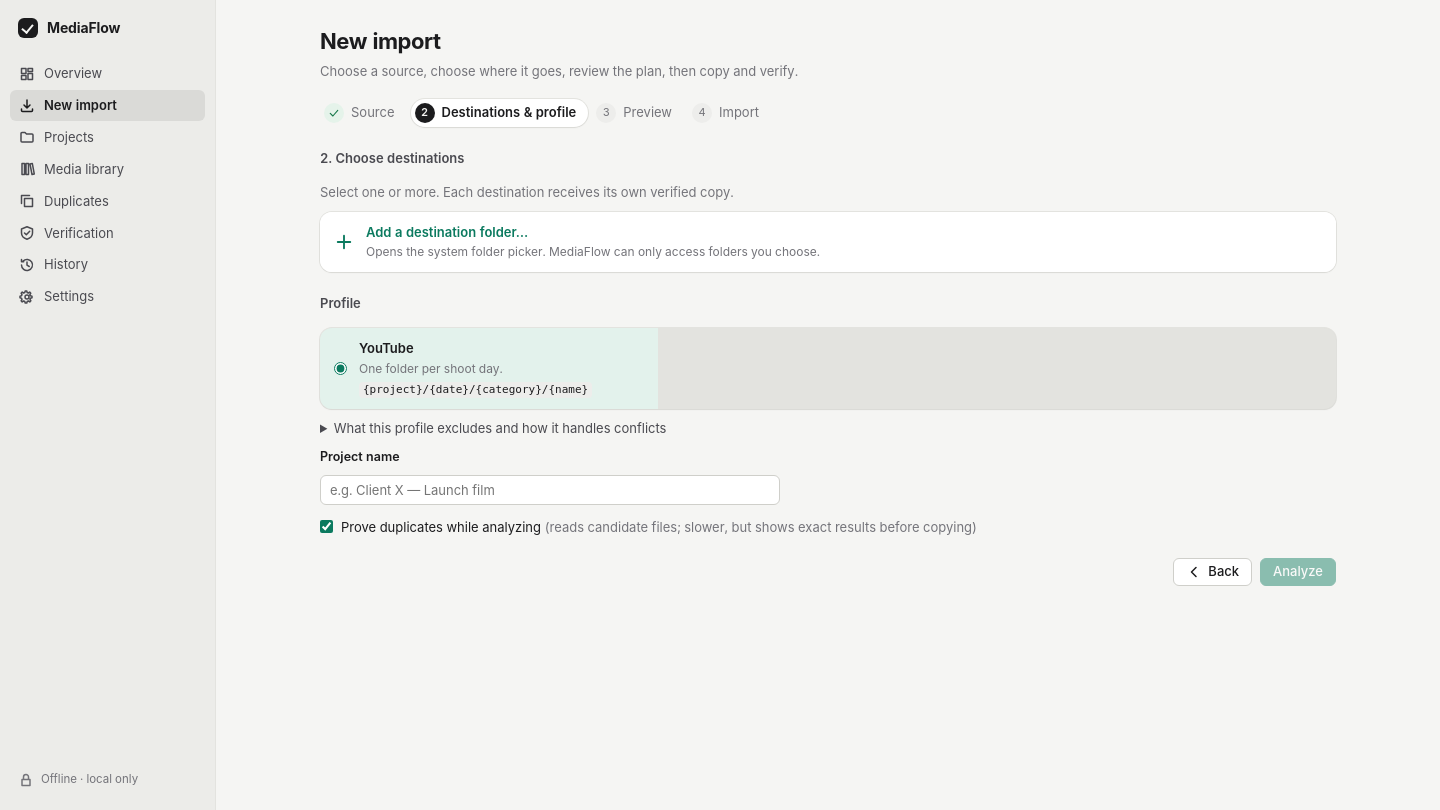
Test case: new import flow › goes from source to a verified run and never reports problems as success
This screenshot has width=1440, height=810.
Earlier steps of the test are not shown.
Later steps or results of the test are not shown.
Expected: the button "Analyze" is disabled, [1260,558,1336,586]
Click the button "Add a destination folder" at (447, 232), box [320,212,1336,272]
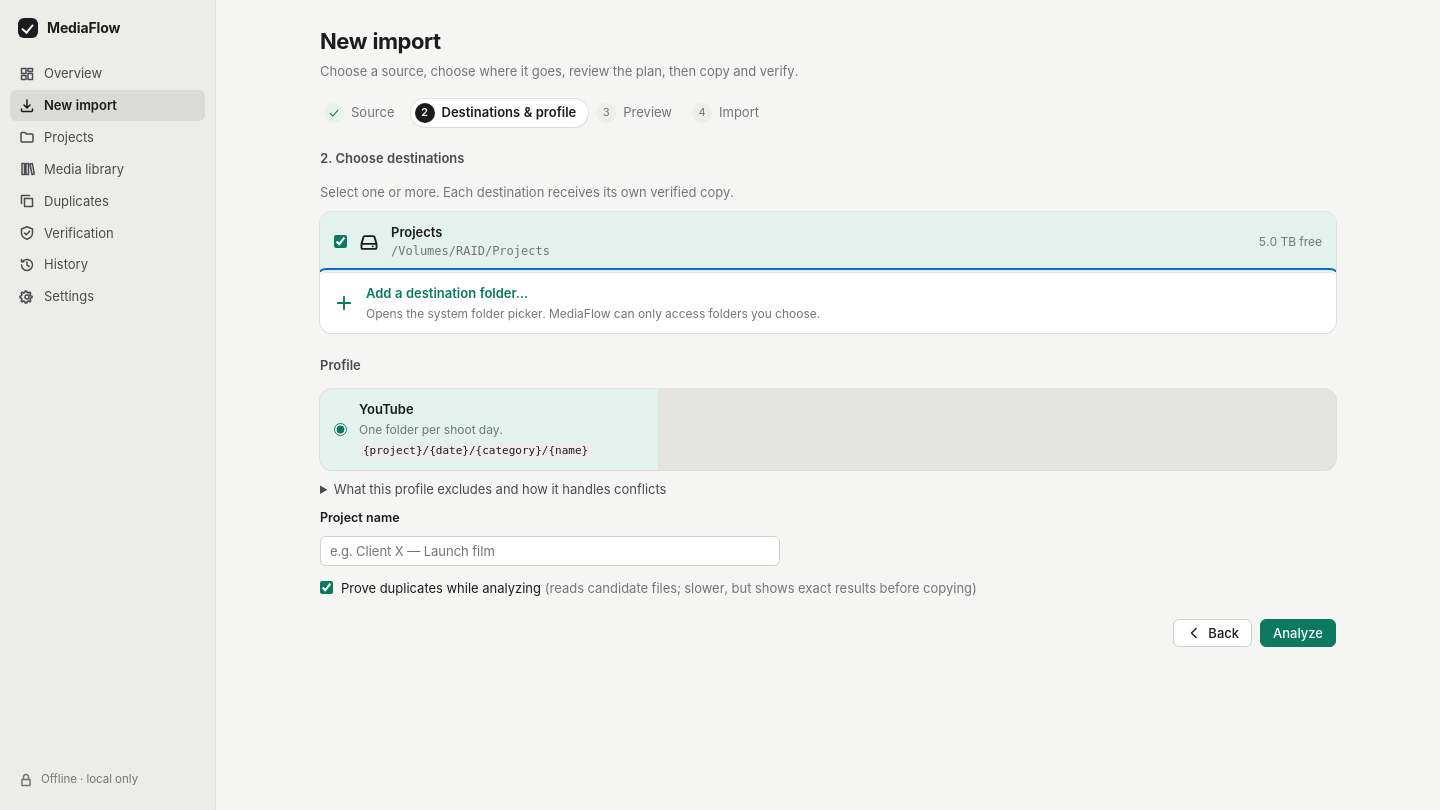
Result: the button "Analyze" is enabled at [1260,619,1336,647]
Type "Launch" into the field labelled "Project name" at (550, 551), box [320,536,780,566]
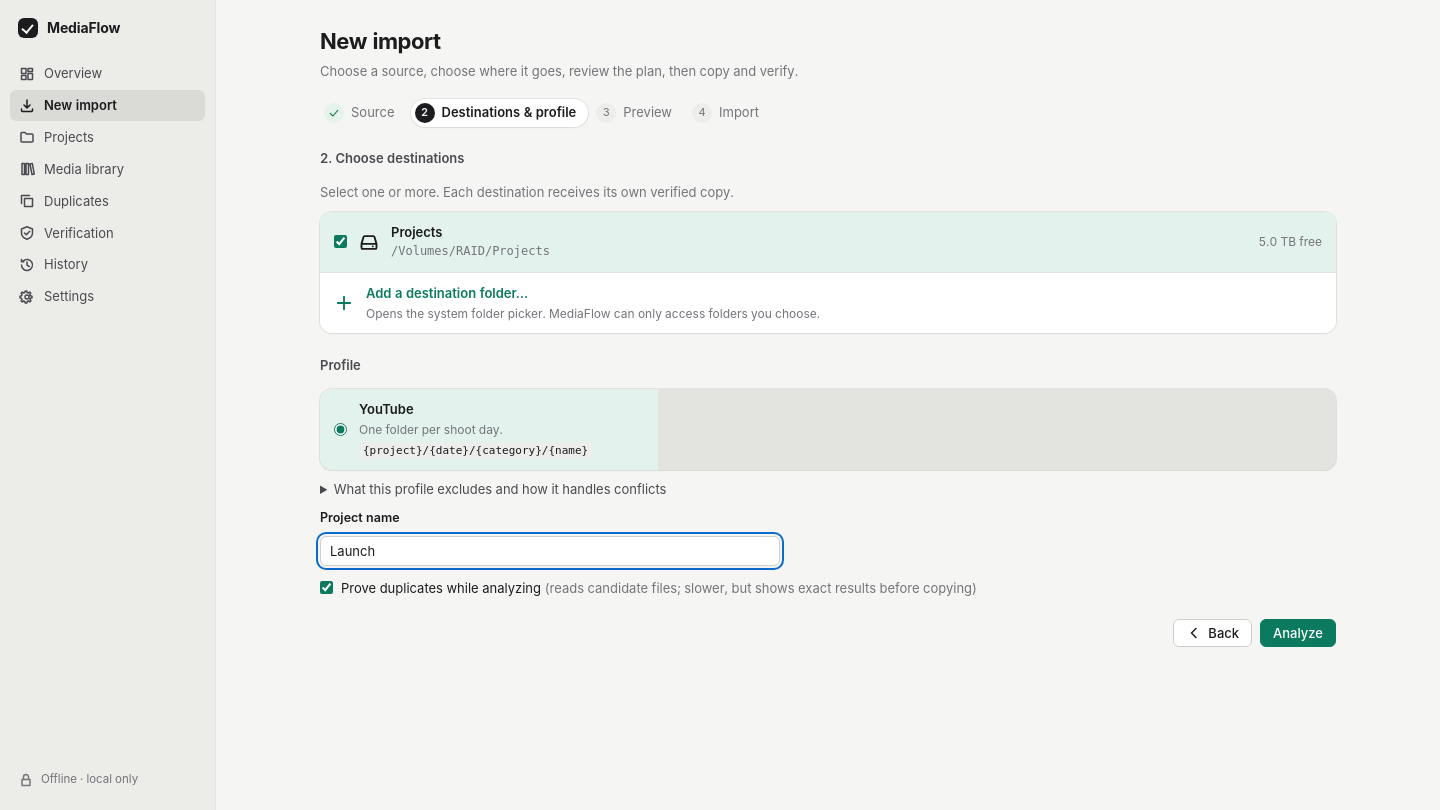
Click the button "Analyze" at (1298, 633), box [1260,619,1336,647]
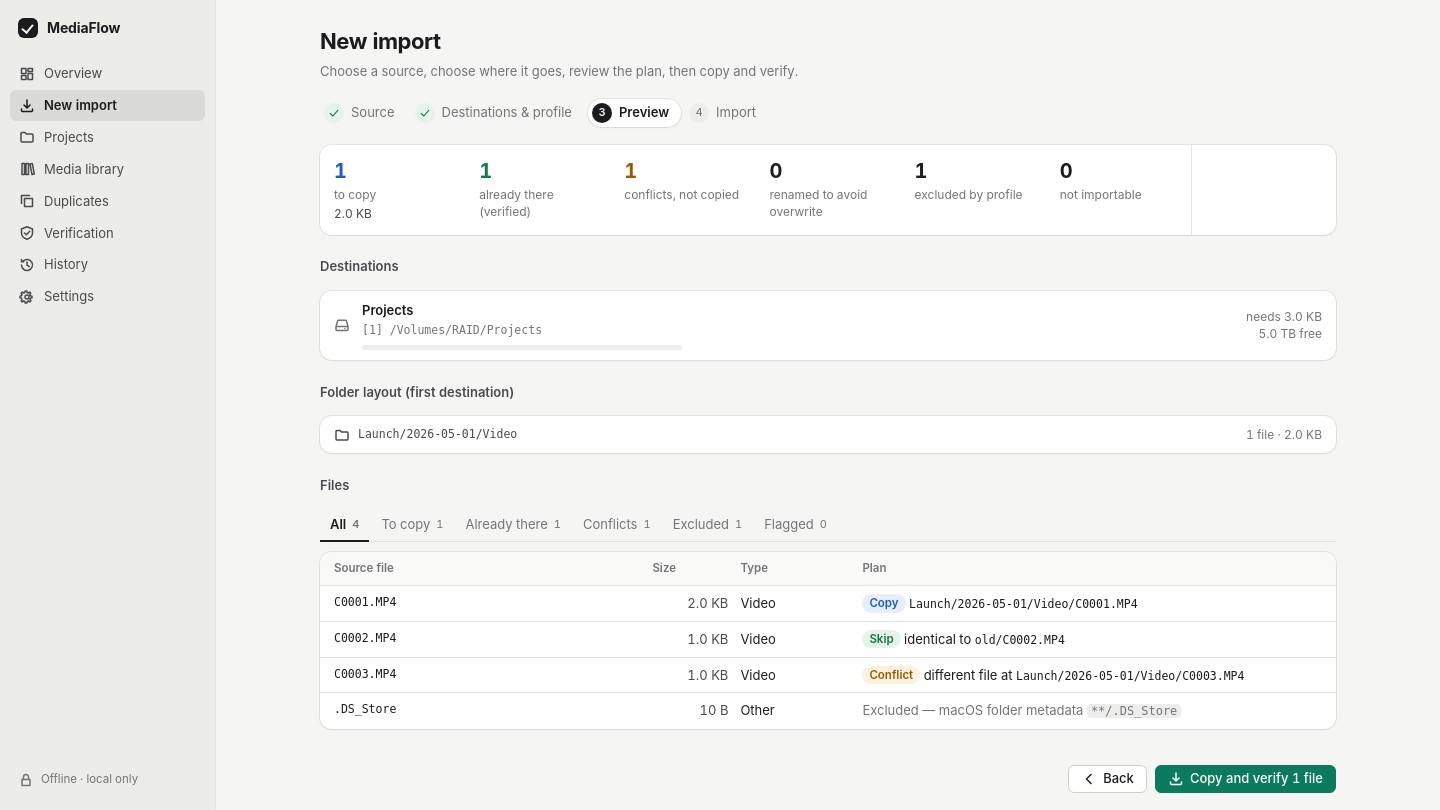
Result: the text "conflicts, not copied" is shown at [624,186,741,203]
Click the tab "Conflicts 1" at (617, 526), box [573,509,661,542]
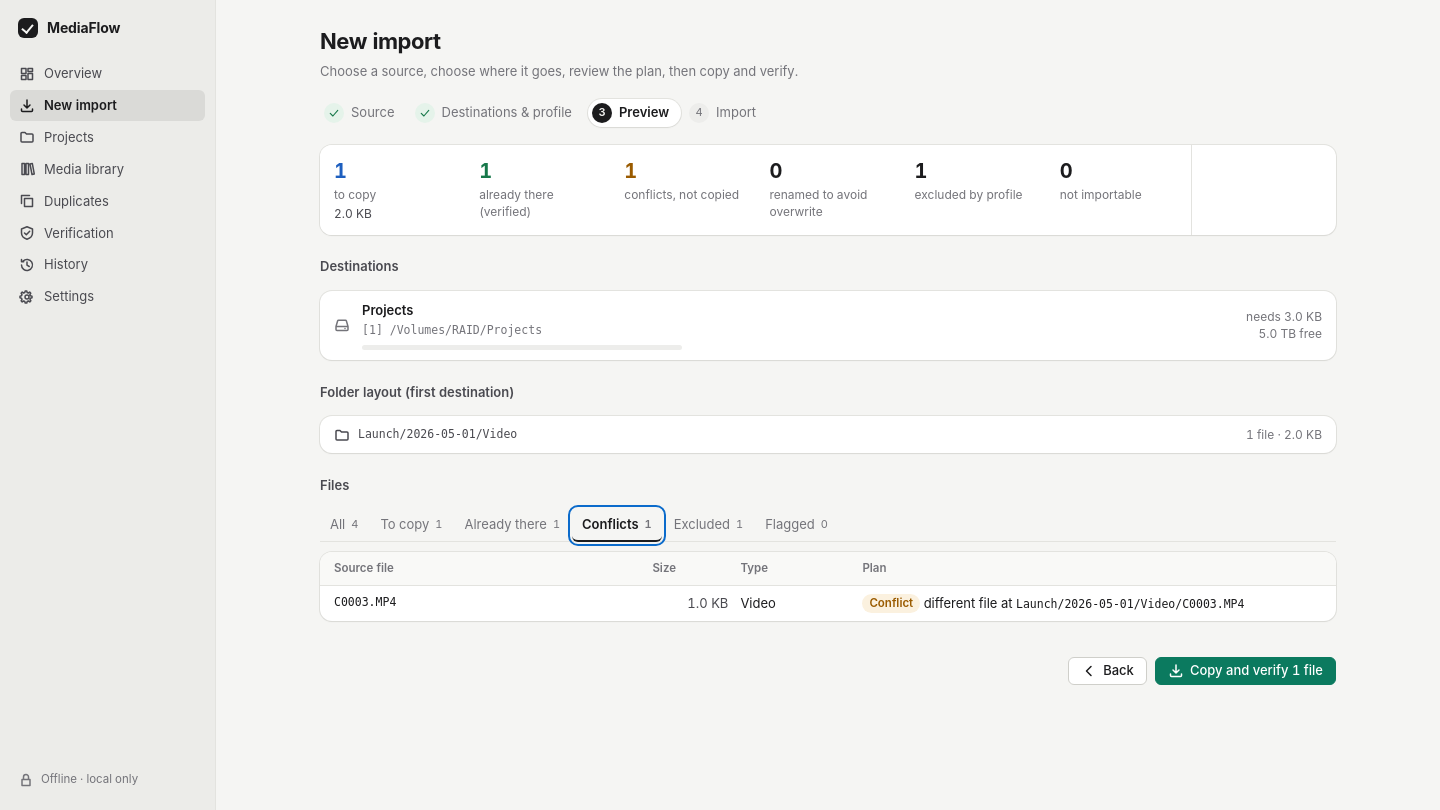
Result: the text "C0003.MP4" is shown at [334,595,396,609]
Result: the text "C0001.MP4" is gone
Click the tab "Excluded 1" at (708, 526), box [664,509,753,542]
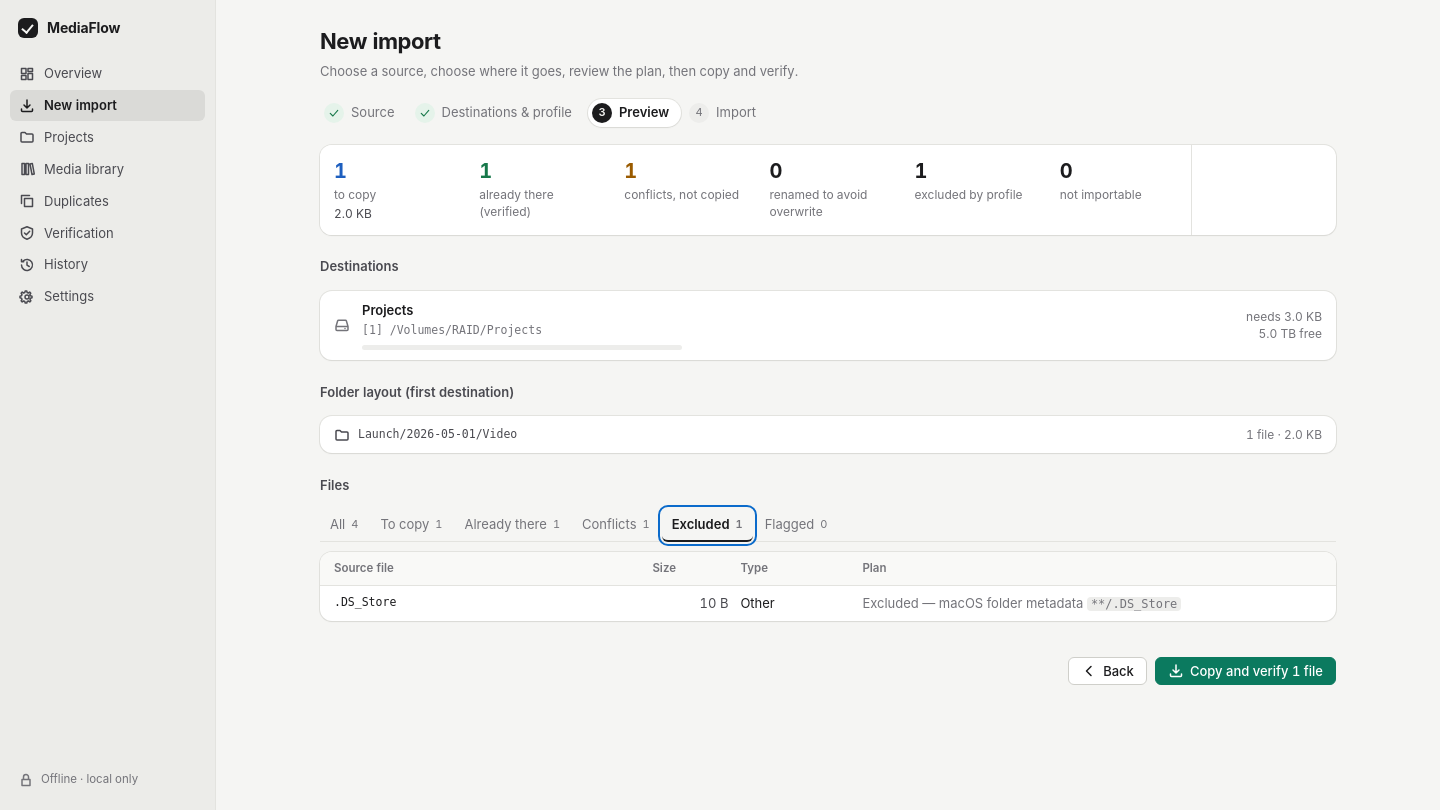
Result: the text "Excluded — macOS folder metadata **/.DS_Store" is shown at [862,595,1181,611]
Click the button "Copy and verify 1 file" at (1245, 671), box [1155,657,1336,685]
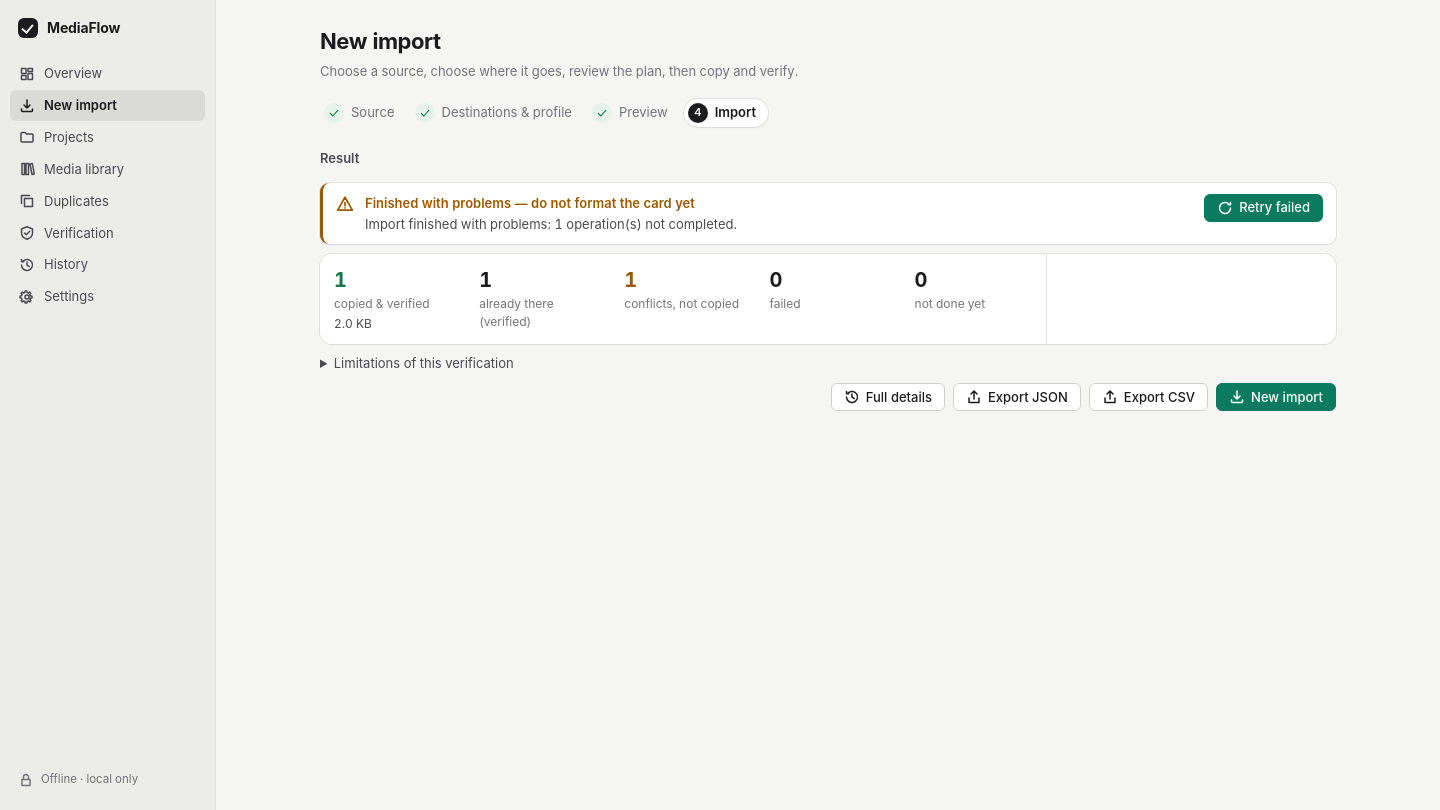
Result: the text "Finished with problems — do not format the card yet" is shown at [365,195,695,211]
Result: the button "Retry failed" is shown at [1204,194,1323,222]
